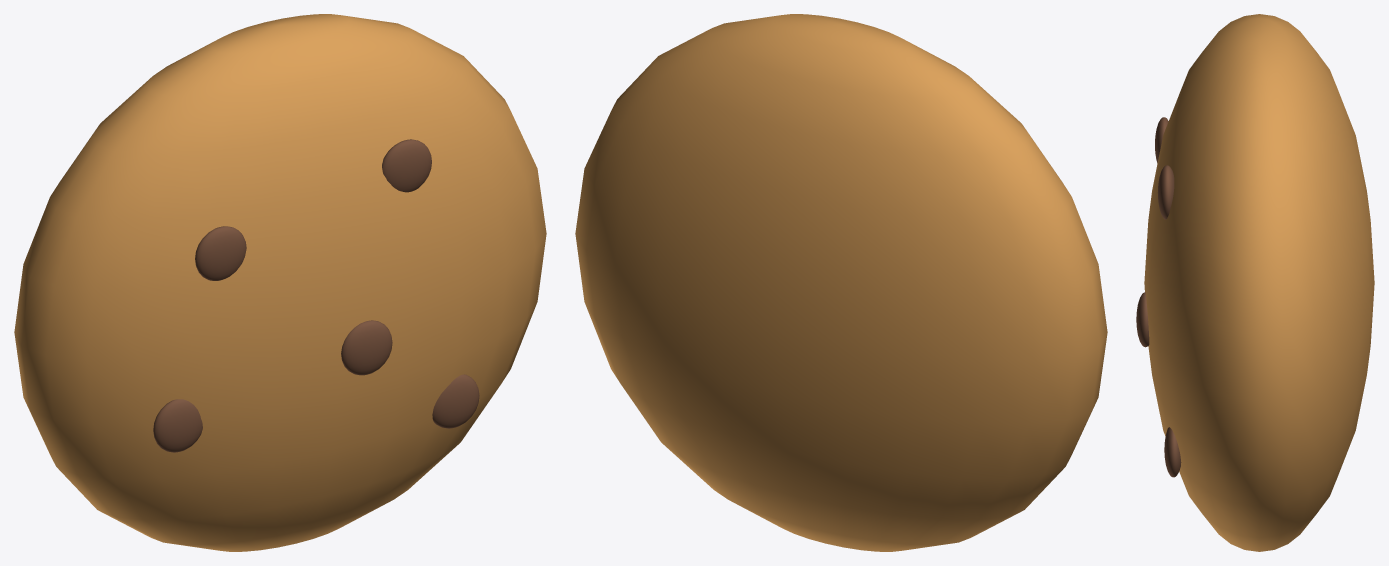
Rendered from snack.glb.
3 views of the same model, side by side, from view 1: azimuth 30°, elevation 25°; view 2: azimuth 150°, elevation 25°; view 3: azimuth 270°, elevation 25° (orthographic). The views are drawn at different scales.
Parts seen in each view (by area): view 1: Happy cookie, Chocolate chip, Chocolate chip.003, Chocolate chip.002, Chocolate chip.001, Chocolate chip.004; view 2: Happy cookie; view 3: Happy cookie, Chocolate chip.001, Chocolate chip.004, Chocolate chip.003, Chocolate chip.
Boxes of the visible parts, x1=… form: Happy cookie: x1=14, y1=14, x2=546, y2=551; Chocolate chip: x1=195, y1=226, x2=246, y2=280; Chocolate chip.003: x1=341, y1=320, x2=392, y2=375; Chocolate chip.002: x1=153, y1=399, x2=202, y2=452; Chocolate chip.001: x1=382, y1=139, x2=431, y2=192; Chocolate chip.004: x1=432, y1=374, x2=479, y2=428; Happy cookie: x1=575, y1=14, x2=1107, y2=551; Happy cookie: x1=1144, y1=14, x2=1374, y2=551; Chocolate chip.001: x1=1157, y1=165, x2=1174, y2=219; Chocolate chip.004: x1=1164, y1=427, x2=1181, y2=477; Chocolate chip.003: x1=1136, y1=292, x2=1149, y2=347; Chocolate chip: x1=1155, y1=117, x2=1168, y2=163.
Bounding box in the file's own units: 0.122 × 0.116 × 0.0517.
